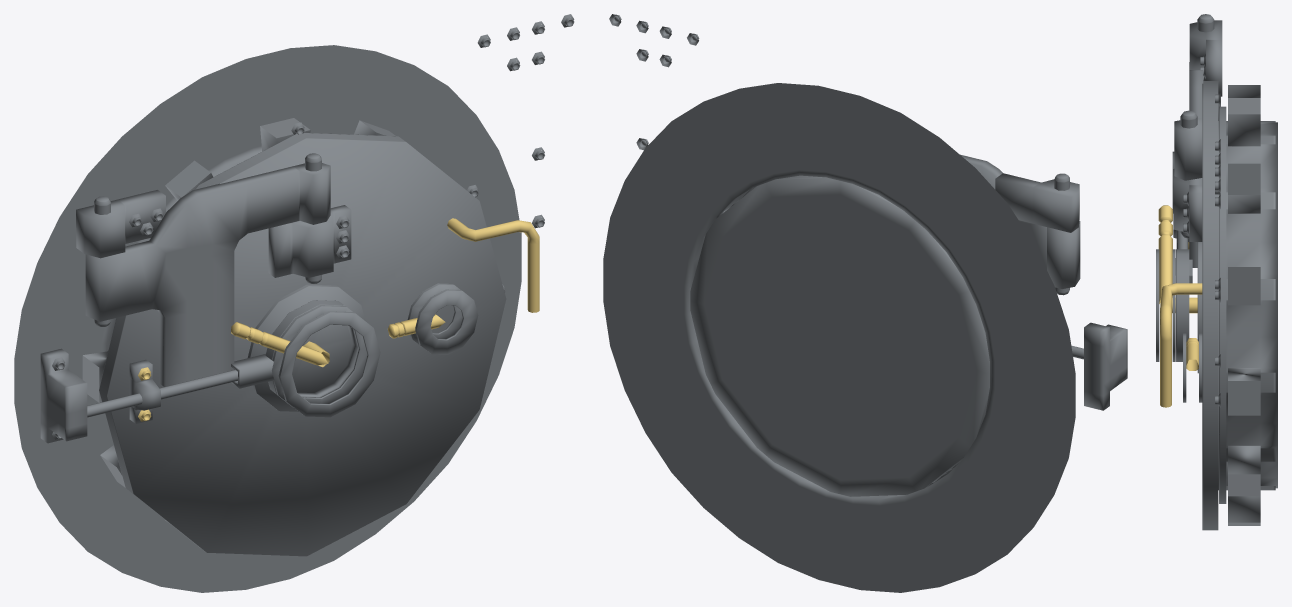
File: vault_door.glb
3 renders of one model, left to right at view 1: azimuth 30°, elevation 25°; view 2: azimuth 150°, elevation 25°; view 3: azimuth 270°, elevation 25°, orthographic. The views are drawn at different scales.
Visible parts, largest first — view 1: MainDoor, DeadBoltSocketRadia, MainHingeBracket, MainDoorValveBase, DoorMountHinge, WallMountHinge, TrippleDeadBoltSocket, SecondaryValveBase, TrippleDeadBoltHi.000, MainHandle, TrippleDeadBoltHinge.001, ScrewCap (+1 smaller); view 2: DeadBoltSocketRadia, MainDoor, WallMountHinge, TrippleDeadBoltSocket, MainHingeBracket, ScrewCap; view 3: DeadBoltSocketRadia, MainDoor, MainHingeBracket, MainDoorValveBase, MainHandle, WallMountHinge, DoorMountHinge, Cylinder, SecondaryValveBase, ScrewCap, LockHandle, TrippleDeadBoltHi.000 (+4 smaller).
Boxes of the visible parts, x1,y1,x2,y2 form: MainDoor: (99, 133, 506, 556); DeadBoltSocketRadia: (14, 45, 521, 592); MainHingeBracket: (85, 163, 330, 386); MainDoorValveBase: (265, 300, 380, 417); DoorMountHinge: (268, 205, 351, 277); WallMountHinge: (76, 190, 165, 258); TrippleDeadBoltSocket: (40, 348, 87, 443); SecondaryValveBase: (407, 283, 478, 354); TrippleDeadBoltHi.000: (87, 354, 273, 417); MainHandle: (447, 218, 539, 312); TrippleDeadBoltHinge.001: (129, 359, 160, 423); ScrewCap: (467, 14, 574, 228); DeadBoltSocketRadia: (603, 83, 1075, 592); MainDoor: (690, 175, 989, 496); WallMountHinge: (995, 173, 1079, 232); TrippleDeadBoltSocket: (1084, 322, 1127, 410); MainHingeBracket: (960, 154, 1080, 288); ScrewCap: (609, 14, 699, 150); DeadBoltSocketRadia: (1219, 85, 1277, 525); MainDoor: (1197, 81, 1275, 530); MainHingeBracket: (1174, 62, 1220, 267); MainDoorValveBase: (1156, 249, 1189, 361); MainHandle: (1160, 283, 1202, 407); WallMountHinge: (1189, 20, 1222, 96); DoorMountHinge: (1173, 169, 1202, 241); Cylinder: (1158, 205, 1172, 303); SecondaryValveBase: (1183, 333, 1202, 402); ScrewCap: (1215, 139, 1220, 368); LockHandle: (1186, 338, 1198, 370); TrippleDeadBoltHi.000: (1175, 230, 1192, 283).
Bounding box in the file's own units: 7.57 × 7.21 × 1.54.
